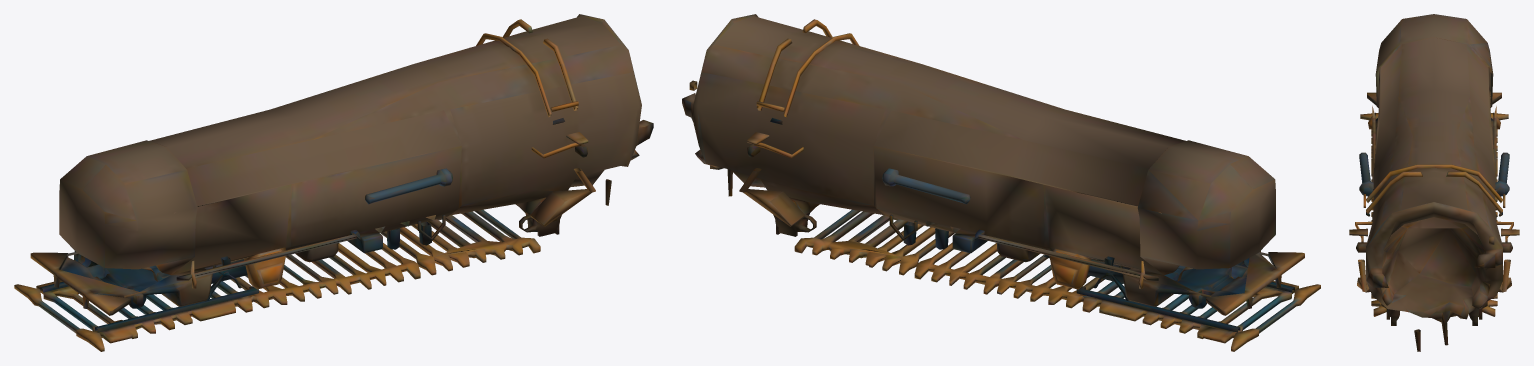
File: warden_011.glb
3 renders of one model, left to right at view 1: azimuth 30°, elevation 25°; view 2: azimuth 150°, elevation 25°; view 3: azimuth 270°, elevation 25°, orthographic. The views are drawn at different scales.
Parts seen in each view (by area): view 1: base_model_path; view 2: base_model_path; view 3: base_model_path.
Part boxes in pixels (<box>): base_model_path: <box>14,14,653,351</box>; base_model_path: <box>682,14,1320,351</box>; base_model_path: <box>1349,14,1519,351</box>.
Size of the model in its own units: 0.9927 by 0.3089 by 0.3012.
1 material, 1 textured.
